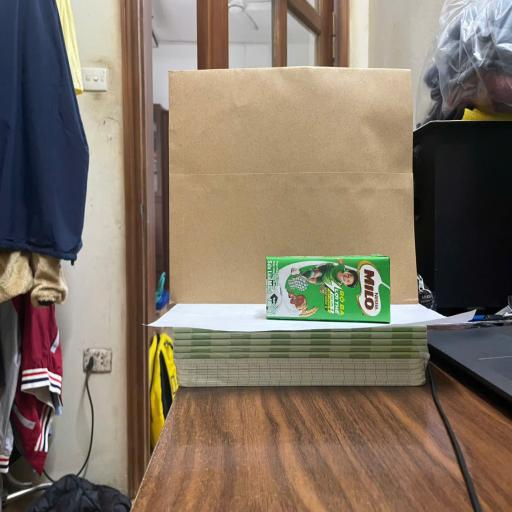milo: (266, 254, 391, 324)
